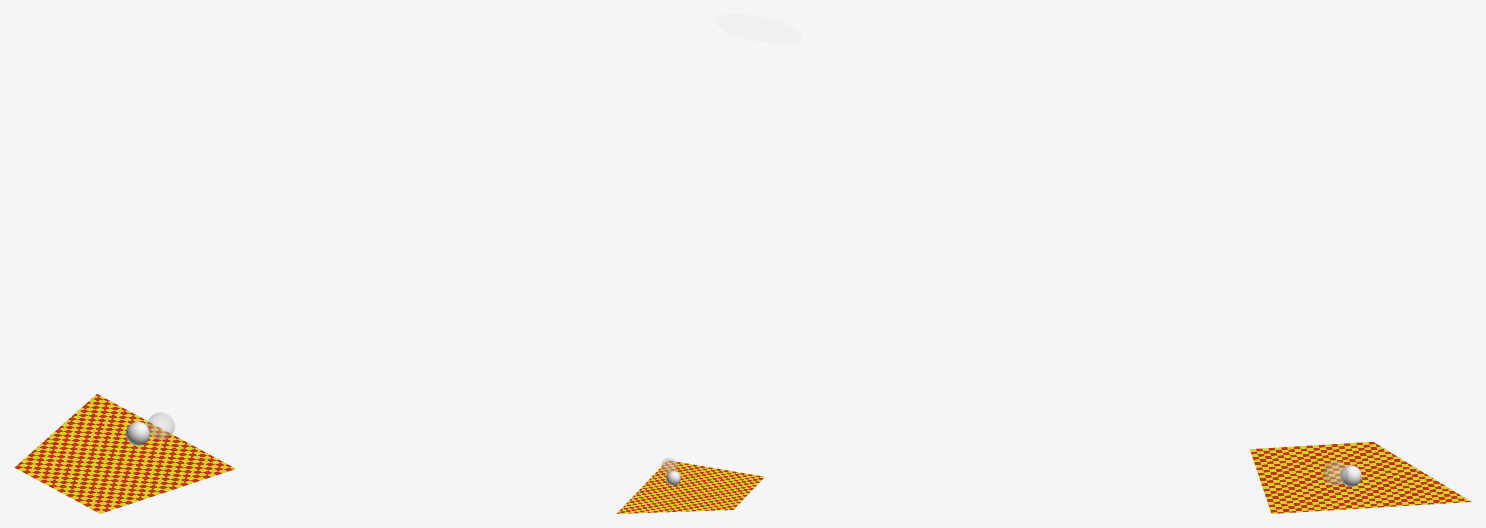
File: WhittedSpheres.gltf
3 renders of one model, left to right at view 1: azimuth 30°, elevation 25°; view 2: azimuth 150°, elevation 25°; view 3: azimuth 270°, elevation 25°, orthographic. The views are drawn at different scales.
Visible parts, largest first — view 1: Finite checkerboard; view 2: Finite checkerboard, Disk area light; view 3: Finite checkerboard.
Part boxes in pixels (box(x1,y1,x2,y2)): Finite checkerboard: box(14, 394, 235, 513); Finite checkerboard: box(617, 460, 764, 513); Disk area light: box(715, 14, 802, 43); Finite checkerboard: box(1250, 441, 1471, 513).
Size of the model in its own units: 24.23 by 45.17 by 50.67.
4 materials, 1 textured.
